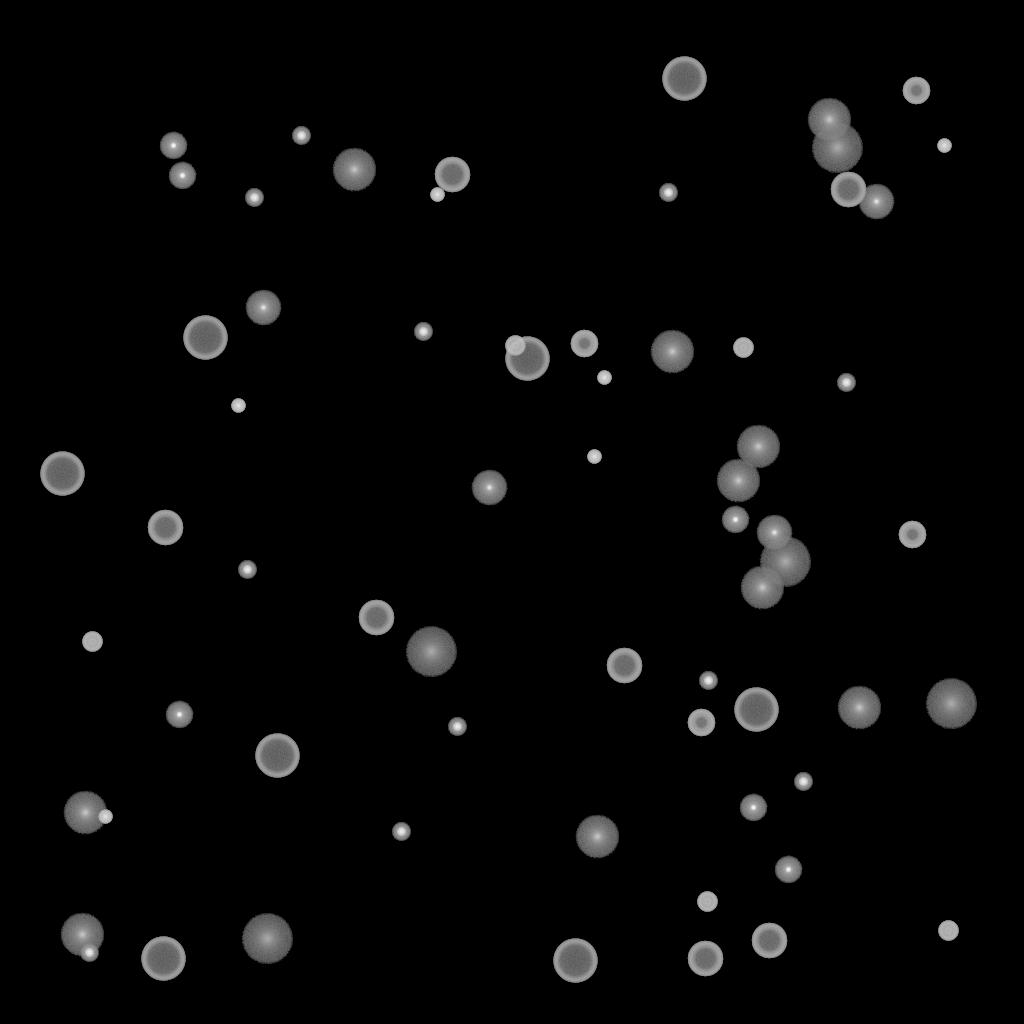depth:-10: (721, 506, 749, 534), (774, 856, 802, 884), (165, 701, 193, 729), (168, 162, 196, 190), (159, 132, 187, 160), (739, 794, 767, 822)
depth:-20: (80, 944, 98, 962), (245, 189, 263, 207), (238, 561, 256, 579), (414, 323, 432, 341), (392, 823, 410, 841), (448, 718, 466, 736), (837, 374, 855, 392), (699, 672, 717, 690), (659, 184, 677, 202), (794, 773, 812, 791), (292, 127, 310, 145)
depth:-30: (231, 399, 245, 413), (597, 371, 611, 385), (937, 139, 951, 153), (587, 450, 601, 464), (98, 810, 112, 824), (430, 188, 444, 202)
depth:-40: (82, 632, 102, 652), (733, 338, 753, 358), (505, 336, 525, 356), (938, 921, 958, 941), (697, 892, 717, 912)
depth:-50: (902, 77, 930, 105), (687, 709, 715, 737), (898, 521, 926, 549), (570, 330, 598, 358)
depth:-60: (751, 923, 787, 959), (687, 941, 723, 977), (434, 157, 470, 193), (358, 600, 394, 636), (147, 510, 183, 546), (830, 172, 866, 208), (606, 648, 642, 684)
depth:-70: (734, 688, 778, 732), (141, 937, 185, 981), (255, 734, 299, 778), (183, 316, 227, 360), (553, 939, 597, 983), (505, 337, 549, 381), (40, 452, 84, 496), (662, 57, 706, 101)
depth:0: (756, 515, 792, 551), (471, 470, 507, 506), (245, 290, 281, 326), (858, 184, 894, 220)
depth:10: (63, 791, 107, 835), (740, 566, 784, 610), (60, 913, 104, 957), (837, 686, 881, 730), (575, 815, 619, 859), (650, 330, 694, 374), (332, 148, 376, 192), (716, 459, 760, 503), (736, 425, 780, 469), (807, 98, 851, 142)
depth:20: (405, 627, 457, 677), (925, 679, 977, 729), (811, 123, 863, 173), (759, 537, 811, 587), (241, 914, 293, 964)
